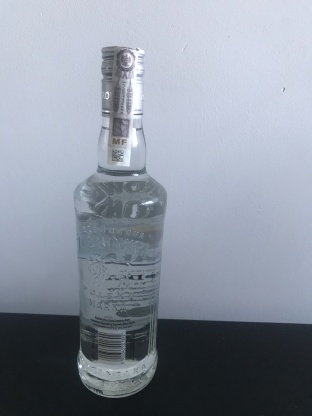nakretka: (97, 42, 148, 123)
